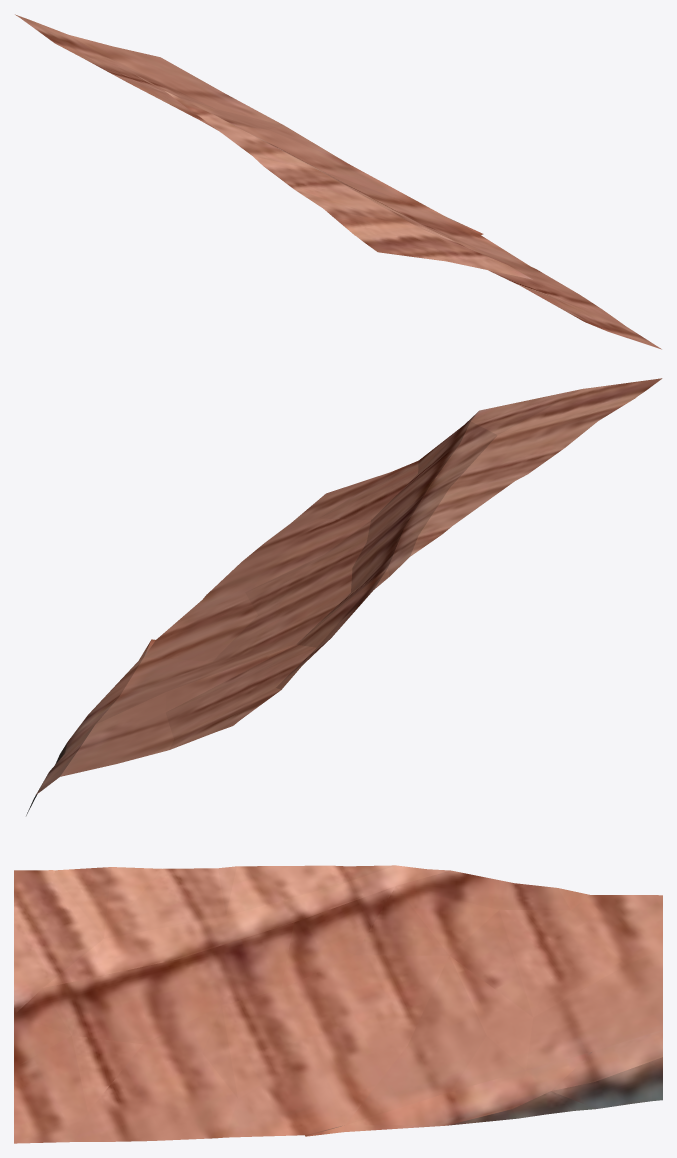
3 renders of one model, top to bottom at view 1: azimuth 30°, elevation 25°; view 2: azimuth 150°, elevation 25°; view 3: azimuth 270°, elevation 25°, orthographic. The views are drawn at different scales.
Bounding box in the file's own units: 0.3791 × 0.2192 × 0.8374.
Materials: 2 (2 with a texture image).
